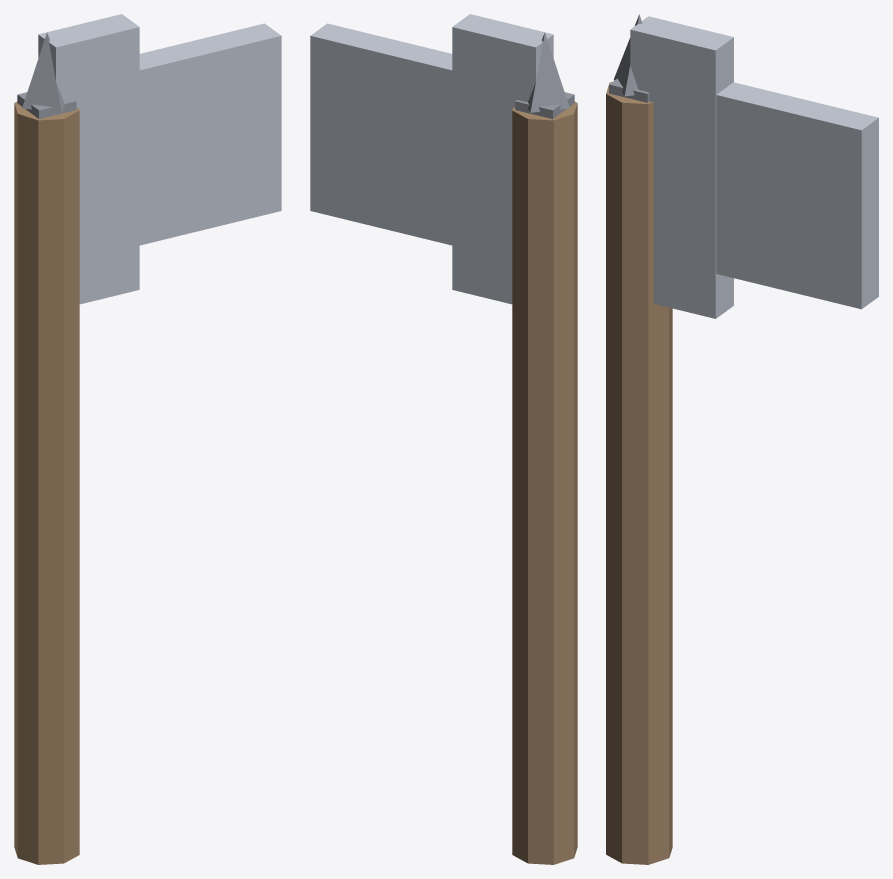
File: axe_battle.glb
3 renders of one model, left to right at view 1: azimuth 30°, elevation 25°; view 2: azimuth 150°, elevation 25°; view 3: azimuth 330°, elevation 25°, orthographic. The views are drawn at different scales.
Parts seen in each view (by area): view 1: axe_battle_00, axe_battle_02, axe_battle_03, axe_battle_04, axe_battle_01; view 2: axe_battle_00, axe_battle_02, axe_battle_03, axe_battle_04, axe_battle_01; view 3: axe_battle_00, axe_battle_02, axe_battle_03, axe_battle_04.
Part boxes in pixels (<box>): axe_battle_00: <box>14,101,79,864</box>; axe_battle_02: <box>139,23,281,245</box>; axe_battle_03: <box>38,14,139,304</box>; axe_battle_04: <box>22,32,64,112</box>; axe_battle_01: <box>17,92,76,118</box>; axe_battle_00: <box>512,101,577,864</box>; axe_battle_02: <box>310,23,452,245</box>; axe_battle_03: <box>452,14,553,304</box>; axe_battle_04: <box>527,32,569,112</box>; axe_battle_01: <box>515,92,574,118</box>; axe_battle_00: <box>606,82,672,864</box>; axe_battle_02: <box>716,82,878,309</box>; axe_battle_03: <box>630,16,733,318</box>; axe_battle_04: <box>614,14,642,96</box>.
Size of the model in its own units: 0.305 by 0.935 by 0.07.
